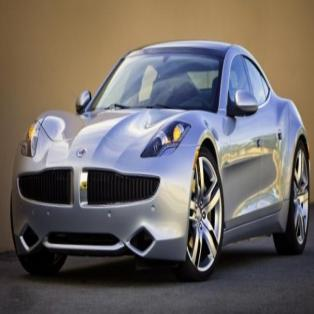Auto: (10, 41, 310, 281)
